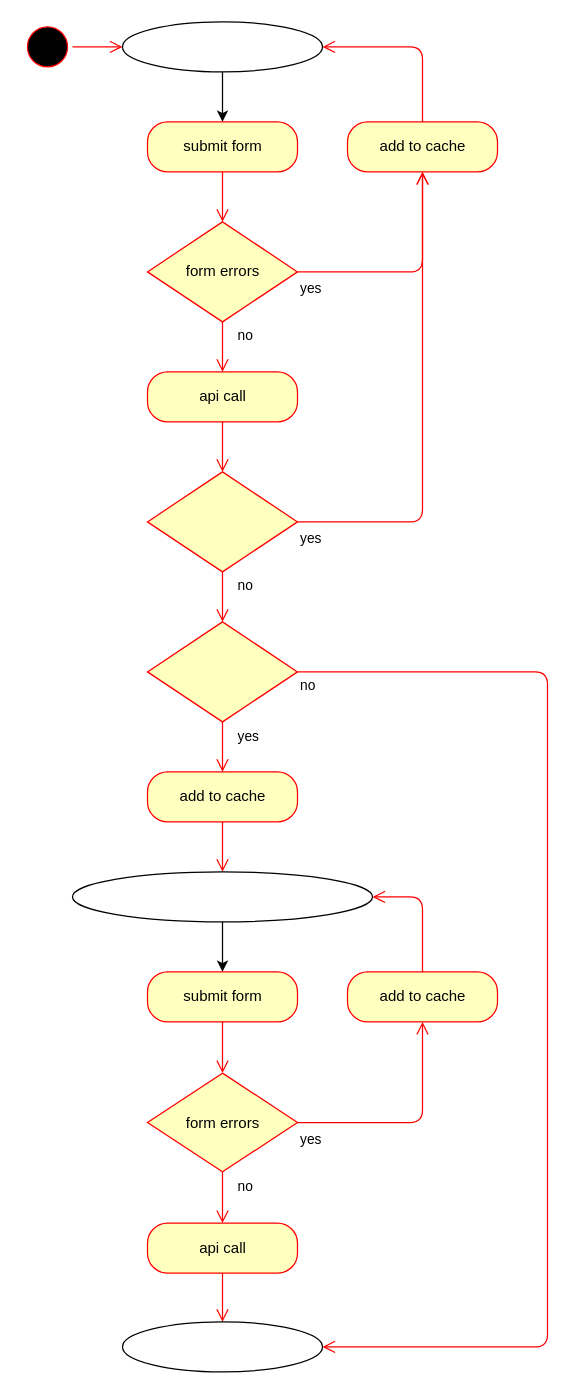
The diagram is 581 pixels wide and 1394 high, and some of its shapes have lost their labels. Each missing label, with the centre of its shape:
"/age-weight-key" belongs at pixel 221 46.
"/age-weight-key-conflict-check" belongs at pixel 221 896.
"/age-weight-key-ok" belongs at pixel 221 1346.
"conflict" belongs at pixel 222 671.
"file errors" belongs at pixel 222 521.
